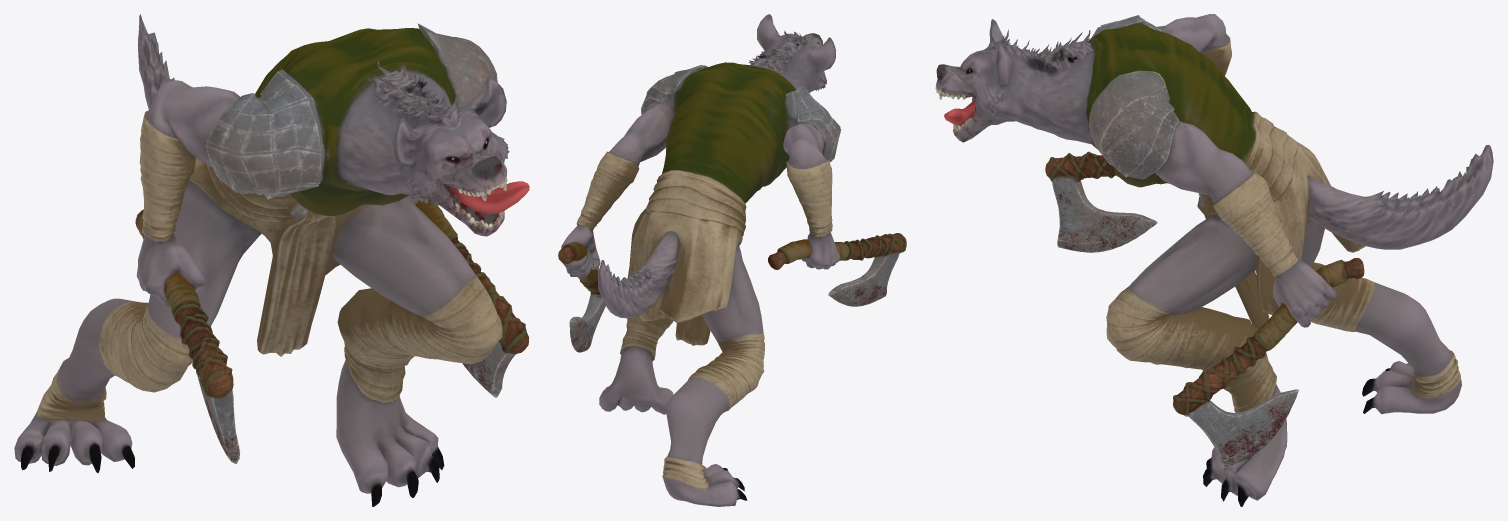
The model's file is MZ4250 - Gnoll 2.glb.
3 views of the same model, side by side, from view 1: azimuth 30°, elevation 25°; view 2: azimuth 150°, elevation 25°; view 3: azimuth 270°, elevation 25° (orthographic). The views are drawn at different scales.
Parts seen in each view (by area): view 1: Body.003; view 2: Body.003; view 3: Body.003.
Boxes of the visible parts, <box> form: Body.003: <box>14,14,529,506</box>; Body.003: <box>558,14,906,506</box>; Body.003: <box>935,14,1493,506</box>.
Bounding box in the file's own units: 70.77 × 88.71 × 105.
3 materials, 3 textured.
